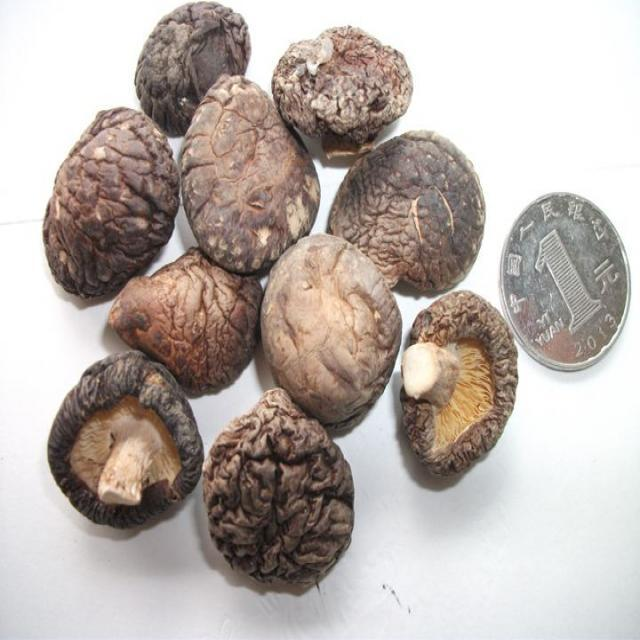Lentinus edodes: (205, 391, 355, 596), (260, 234, 403, 432), (184, 70, 322, 274), (43, 104, 180, 307), (47, 353, 202, 531), (326, 129, 485, 297), (399, 292, 518, 491), (107, 248, 263, 397), (273, 25, 412, 154), (134, 3, 251, 132)
